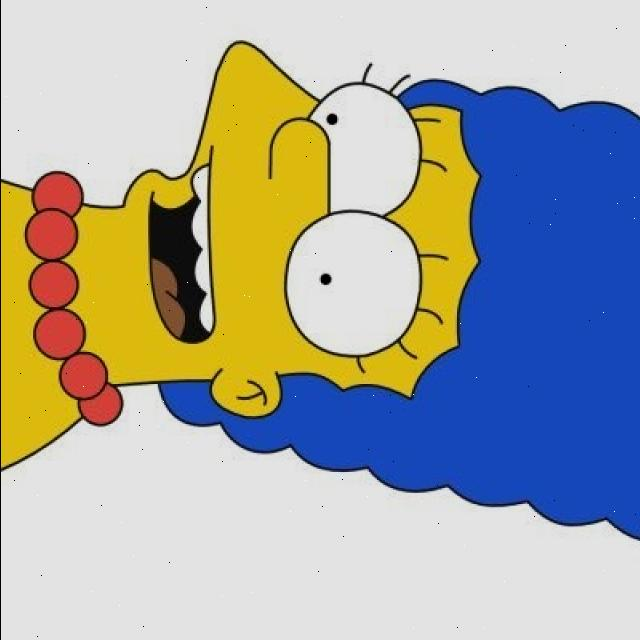Marge Simpson: (18, 36, 640, 549)
